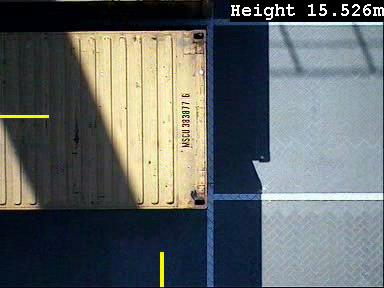groundmarker_2: (142, 50, 242, 99)
